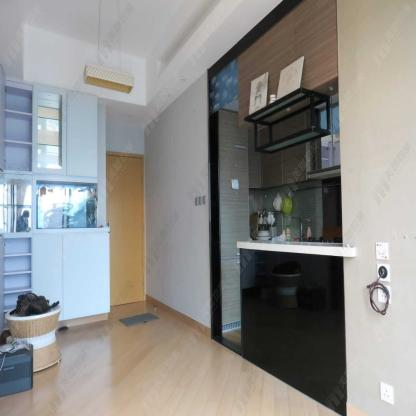Cupboard: (1, 74, 110, 335)
